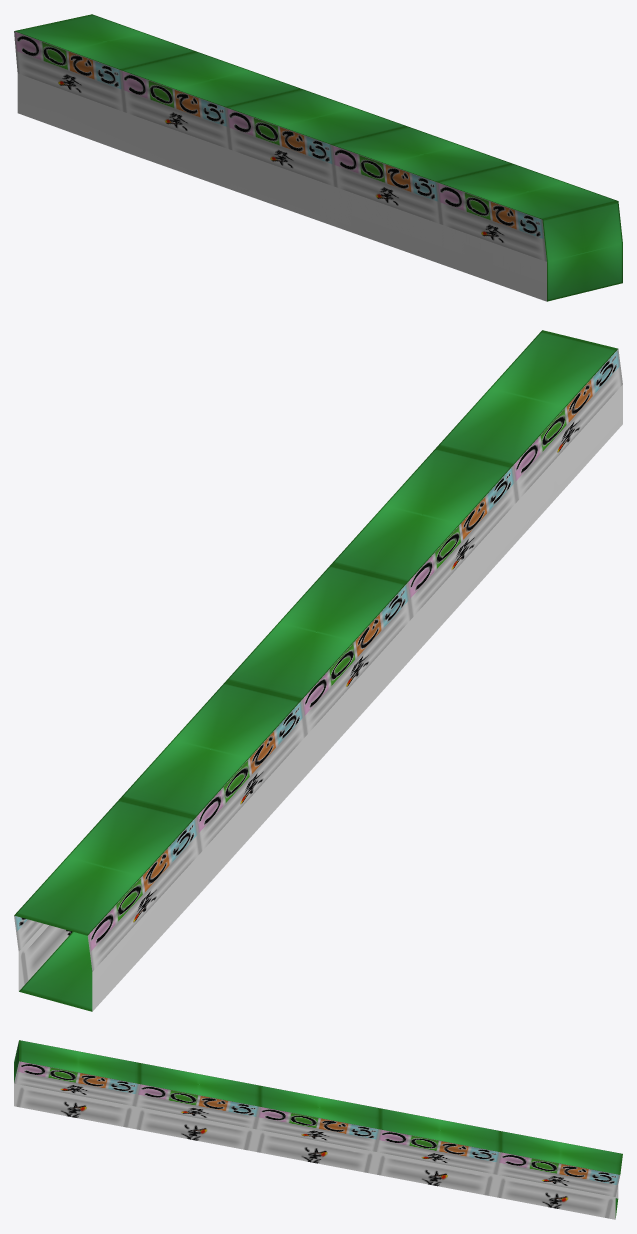
Rendered from CourseSummer_Wall_L_1.fbx.
3 views of the same model, one above another, from view 1: azimuth 30°, elevation 25°; view 2: azimuth 150°, elevation 25°; view 3: azimuth 270°, elevation 25° (orthographic). The views are drawn at different scales.
Parts seen in each view (by area): view 1: polySurface52; view 2: polySurface52; view 3: polySurface52.
Boxes of the visible parts, <box> form: polySurface52: <box>14,14,622,301</box>; polySurface52: <box>14,330,622,1011</box>; polySurface52: <box>14,1040,622,1219</box>.
Size of the model in its own units: 2.01 by 6.98 by 24.29.
1 material, 1 textured.
